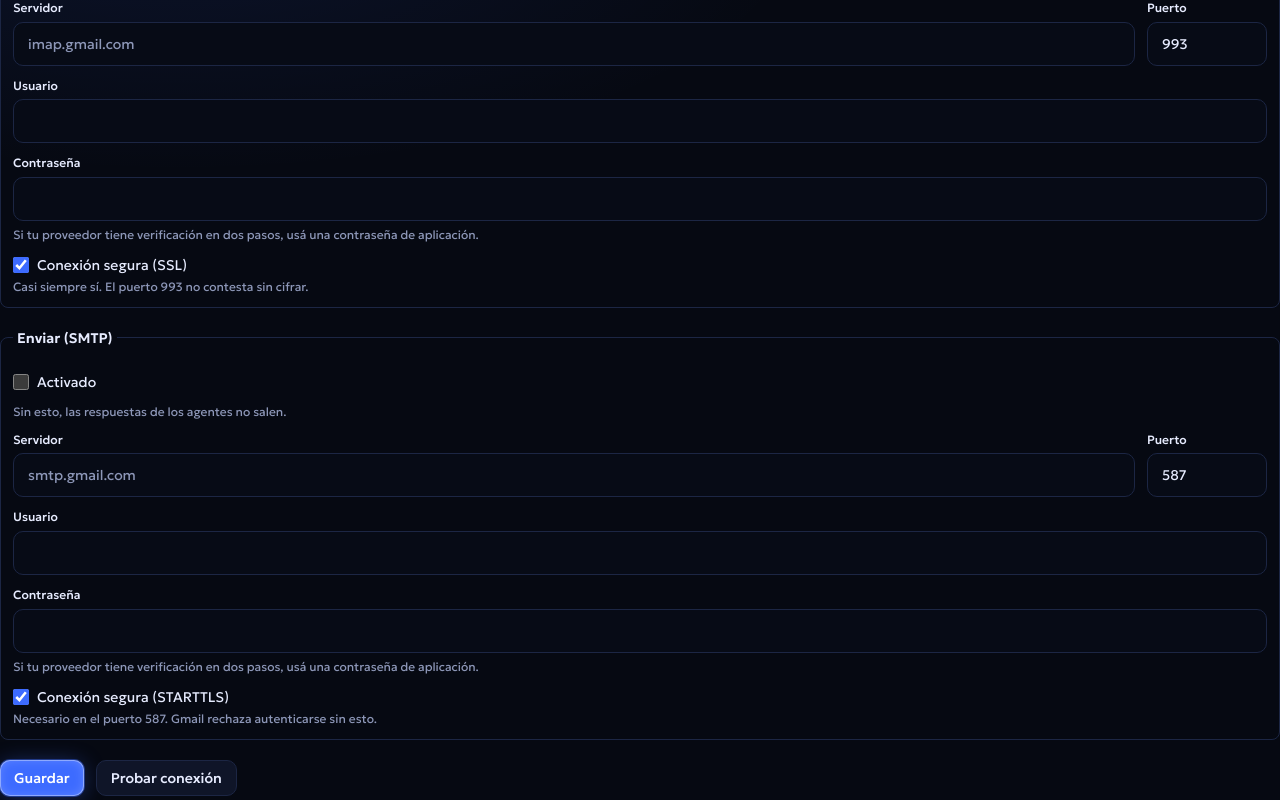
Test: EmailTransportPanel › surfaces a rejected save
The image size is (1280, 800).
(page scrolled)
Click the button "Guardar" at (42, 778), box x1=0 y1=760 x2=84 y2=796
(page scrolled)
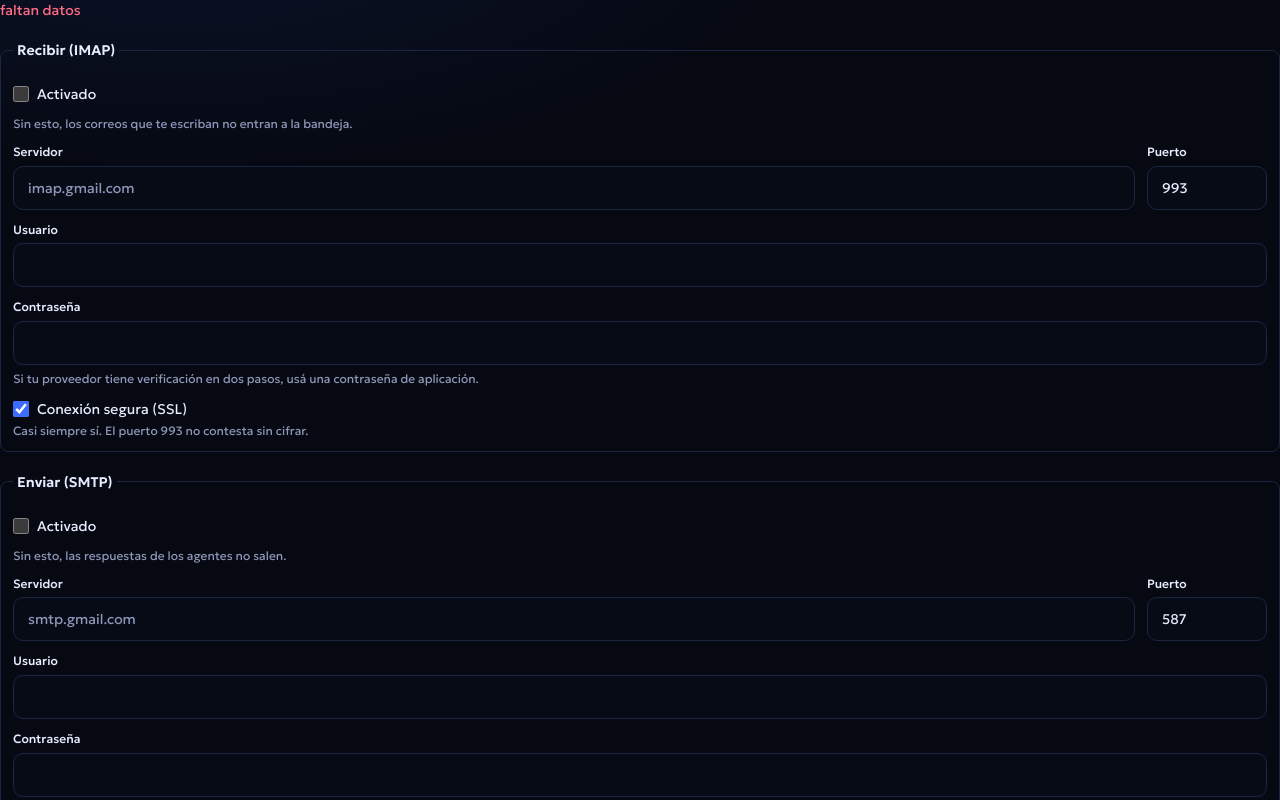
Expected: the message "faltan datos" is shown, x1=0 y1=1 x2=81 y2=19
